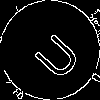U: (25, 25, 84, 83)
